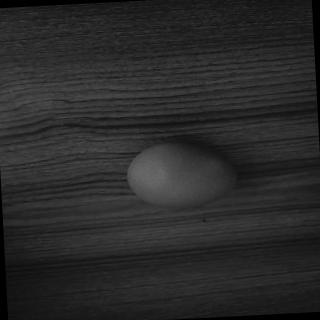Telur: (123, 138, 248, 215)
